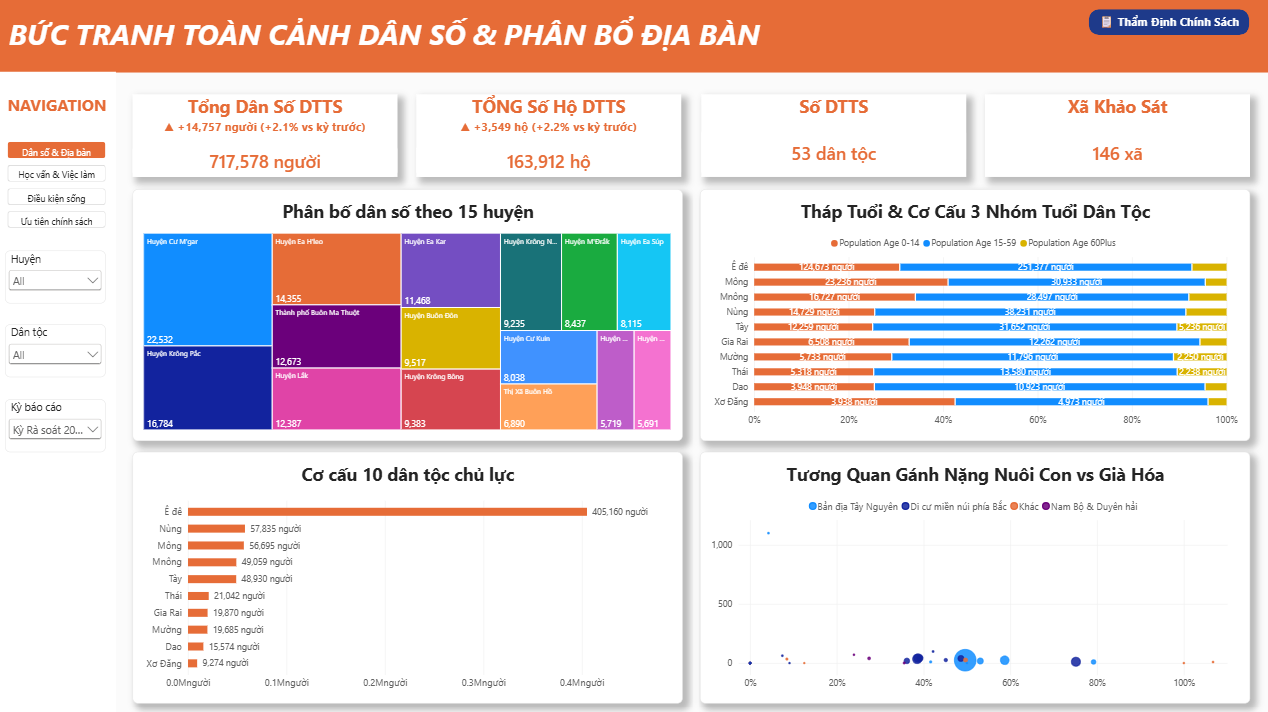

The dashboard page shown, as its layout file describes it:
{"tool":"powerbi","page":{"name":"Dân số & Địa bàn","canvas":[1920,1080],"ordinal":0},"visuals":[{"type":"shape","box":[0,0,1920,112.5],"z":0},{"type":"textbox","box":[12.5,25,1907.5,87.5],"z":1000},{"type":"shape","box":[0,111.7,175,968.3],"z":2000},{"type":"slicer","fields":{"Values":["dim_dantoc.ten_dantoc"]},"box":[8.3,492.9,151.7,80],"z":3000},{"type":"slicer","fields":{"Values":["dim_diaban.ten_huyen"]},"box":[8.3,380.8,151.7,80],"z":4000},{"type":"pageNavigator","box":[11.7,217.1,148.3,131.7],"z":5000},{"type":"textbox","box":[11.7,145,163.3,40],"z":6000},{"type":"cardVisual","title":"Tổng Dân Số DTTS","fields":{"Data":["_Measures.Total DTTS Population"]},"box":[200,145,400,125],"z":7000},{"type":"cardVisual","title":"TỔNG Số Hộ DTTS","fields":{"Data":["_Measures.Total DTTS Households"]},"box":[628.9,145,400,125],"z":8000},{"type":"cardVisual","title":"Số DTTS","fields":{"Data":["_Measures.Total Ethnic Groups Count"]},"box":[1057.8,145,400,125],"z":9000},{"type":"cardVisual","title":"Xã Khảo Sát","fields":{"Data":["_Measures.Total Communes Count"]},"box":[1486.7,145,400,125],"z":10000},{"type":"treemap","title":"Phân bố dân số theo 15 huyện","fields":{"Group":["dim_diaban.ten_huyen"],"Values":["_Measures.Total Households District"]},"box":[200,288.6,830,380],"z":11000},{"type":"hundredPercentStackedBarChart","title":"Tháp Tuổi & Cơ Cấu 3 Nhóm Tuổi Dân Tộc","fields":{"Category":["dim_dantoc.ten_dantoc"],"Y":["_Measures.Population Age 0-14","_Measures.Population Age 15-59","_Measures.Population Age 60Plus"]},"box":[1057.1,288.6,830,380],"z":12000},{"type":"clusteredBarChart","title":"Cơ cấu 10 dân tộc chủ lực","fields":{"Category":["dim_dantoc.ten_dantoc"],"Y":["_Measures.Total DTTS Population"]},"box":[200,685.7,830,380],"z":13000},{"type":"scatterChart","title":"Tương Quan Gánh Nặng Nuôi Con vs Già Hóa","fields":{"Category":["dim_dantoc.ten_dantoc"],"Series":["dim_dantoc.nhom_nguon_goc"],"Size":["_Measures.Total DTTS Population"],"X":["_Measures.Youth Dependency Ratio %"],"Y":["_Measures.Aging Index %"]},"box":[1057.1,685.7,830,380],"z":14000},{"type":"slicer","fields":{"Values":["dim_ky_baocao.ten_ky"]},"box":[8.3,605,151.7,80],"z":14001},{"type":"actionButton","box":[1642.6,17.3,242.4,39],"z":14002}]}

Visuals, with their boxes in screenshot pixels (x1, y1, x2, y2), scaled from the page's 1920x1080 canvas onto the 1268x712 screenshot:
shape: select_region(0, 0, 1267, 74)
textbox: select_region(8, 16, 1267, 74)
shape: select_region(0, 74, 116, 711)
slicer - dim_dantoc.ten_dantoc: select_region(5, 325, 106, 378)
slicer - dim_diaban.ten_huyen: select_region(5, 251, 106, 304)
pageNavigator: select_region(8, 143, 106, 230)
textbox: select_region(8, 96, 116, 122)
"Tổng Dân Số DTTS" cardVisual: select_region(132, 96, 396, 178)
"TỔNG Số Hộ DTTS" cardVisual: select_region(415, 96, 680, 178)
"Số DTTS" cardVisual: select_region(699, 96, 963, 178)
"Xã Khảo Sát" cardVisual: select_region(982, 96, 1246, 178)
"Phân bố dân số theo 15 huyện" treemap: select_region(132, 190, 680, 441)
"Tháp Tuổi & Cơ Cấu 3 Nhóm Tuổi Dân Tộc" hundredPercentStackedBarChart: select_region(698, 190, 1246, 441)
"Cơ cấu 10 dân tộc chủ lực" clusteredBarChart: select_region(132, 452, 680, 703)
"Tương Quan Gánh Nặng Nuôi Con vs Già Hóa" scatterChart: select_region(698, 452, 1246, 703)
slicer - dim_ky_baocao.ten_ky: select_region(5, 399, 106, 452)
actionButton: select_region(1085, 11, 1245, 37)
